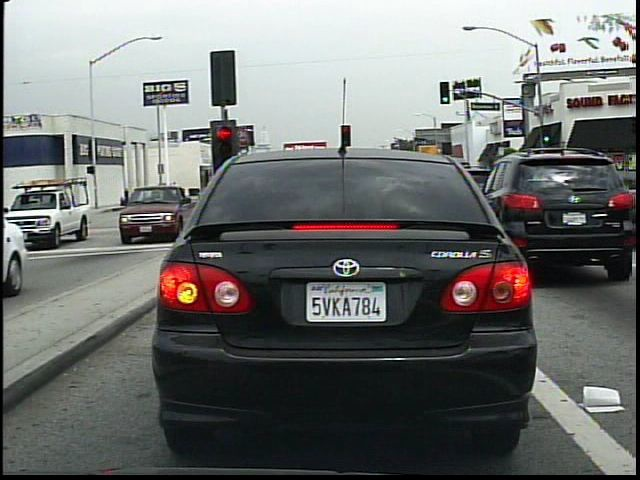person: (163, 172, 185, 202)
